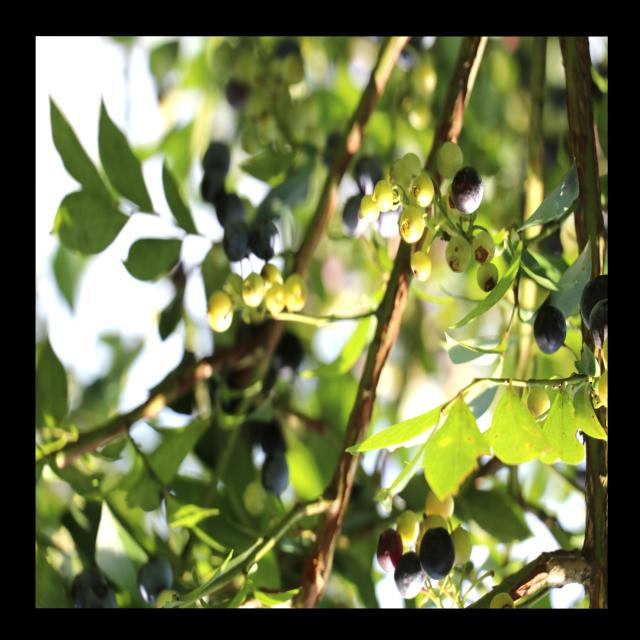blueberry: (418, 526, 456, 578), (448, 162, 484, 213), (533, 304, 567, 354), (577, 270, 607, 326), (395, 551, 423, 603), (257, 454, 288, 498), (251, 216, 279, 264), (222, 218, 251, 264), (376, 528, 401, 575), (589, 297, 607, 350), (343, 200, 368, 236)
blueberry-unripe: (206, 288, 232, 333), (445, 235, 471, 278), (523, 383, 550, 424), (398, 206, 425, 246), (436, 142, 464, 178), (284, 274, 308, 312), (472, 230, 496, 266), (409, 250, 432, 282), (241, 275, 264, 307), (412, 174, 433, 208), (372, 180, 394, 212), (360, 193, 380, 226), (476, 264, 499, 292), (261, 264, 284, 288), (265, 288, 285, 315)
